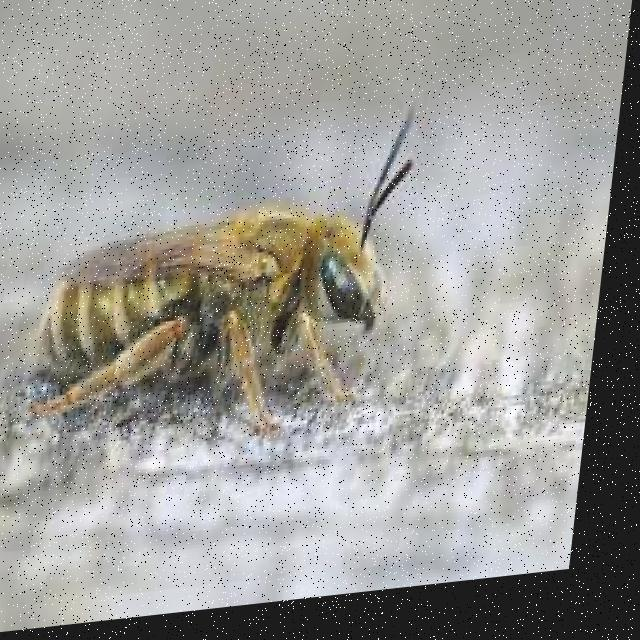Meliponula: (15, 136, 431, 500)
